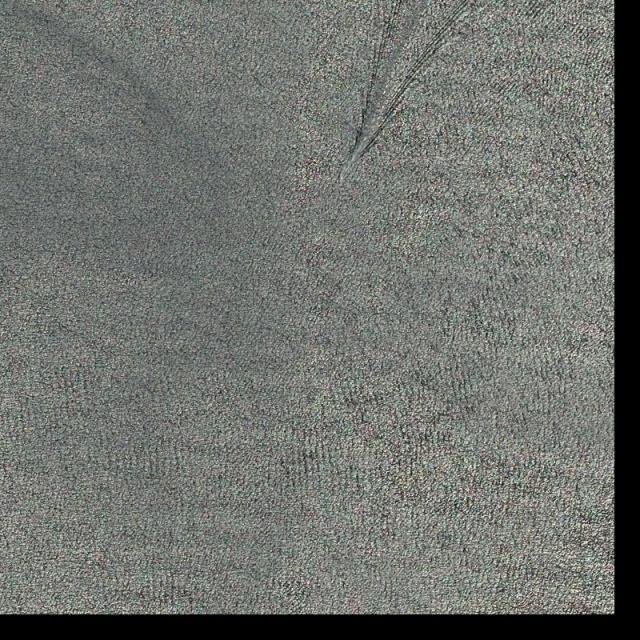ship: (338, 177, 345, 186)
